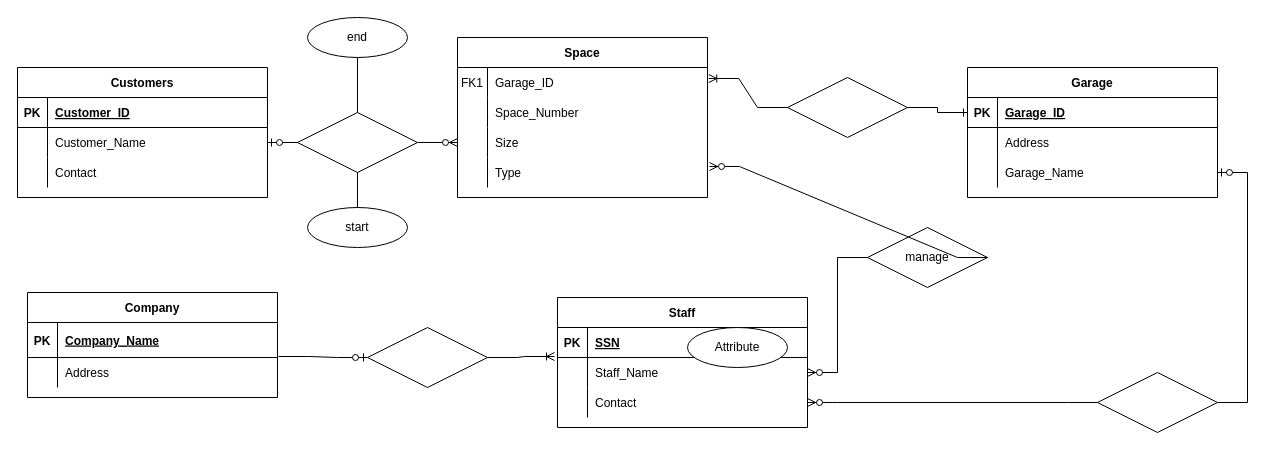
Image size: 1273x450. Some labels were removed from this diagram. Each missing label, with the centre of its shape:
"Employ" belongs at point 427,357.
"Own" belongs at point 847,107.
"rent" belongs at point 357,142.
"work" belongs at point 1157,402.
